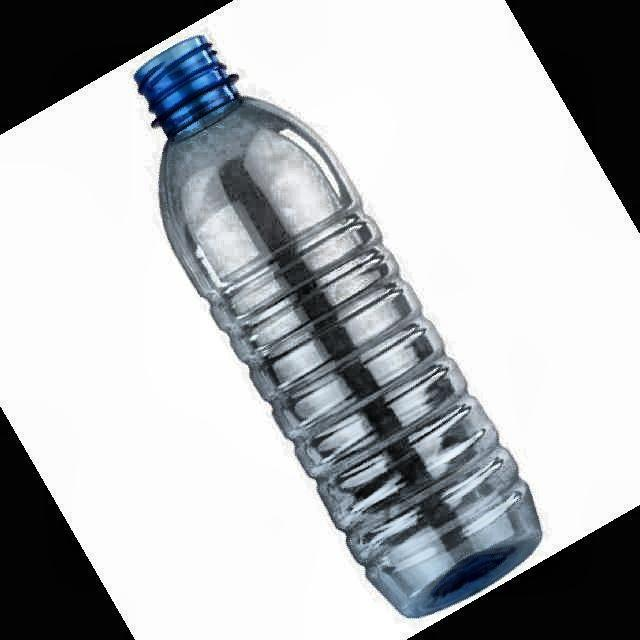plastic: (136, 38, 540, 617)
